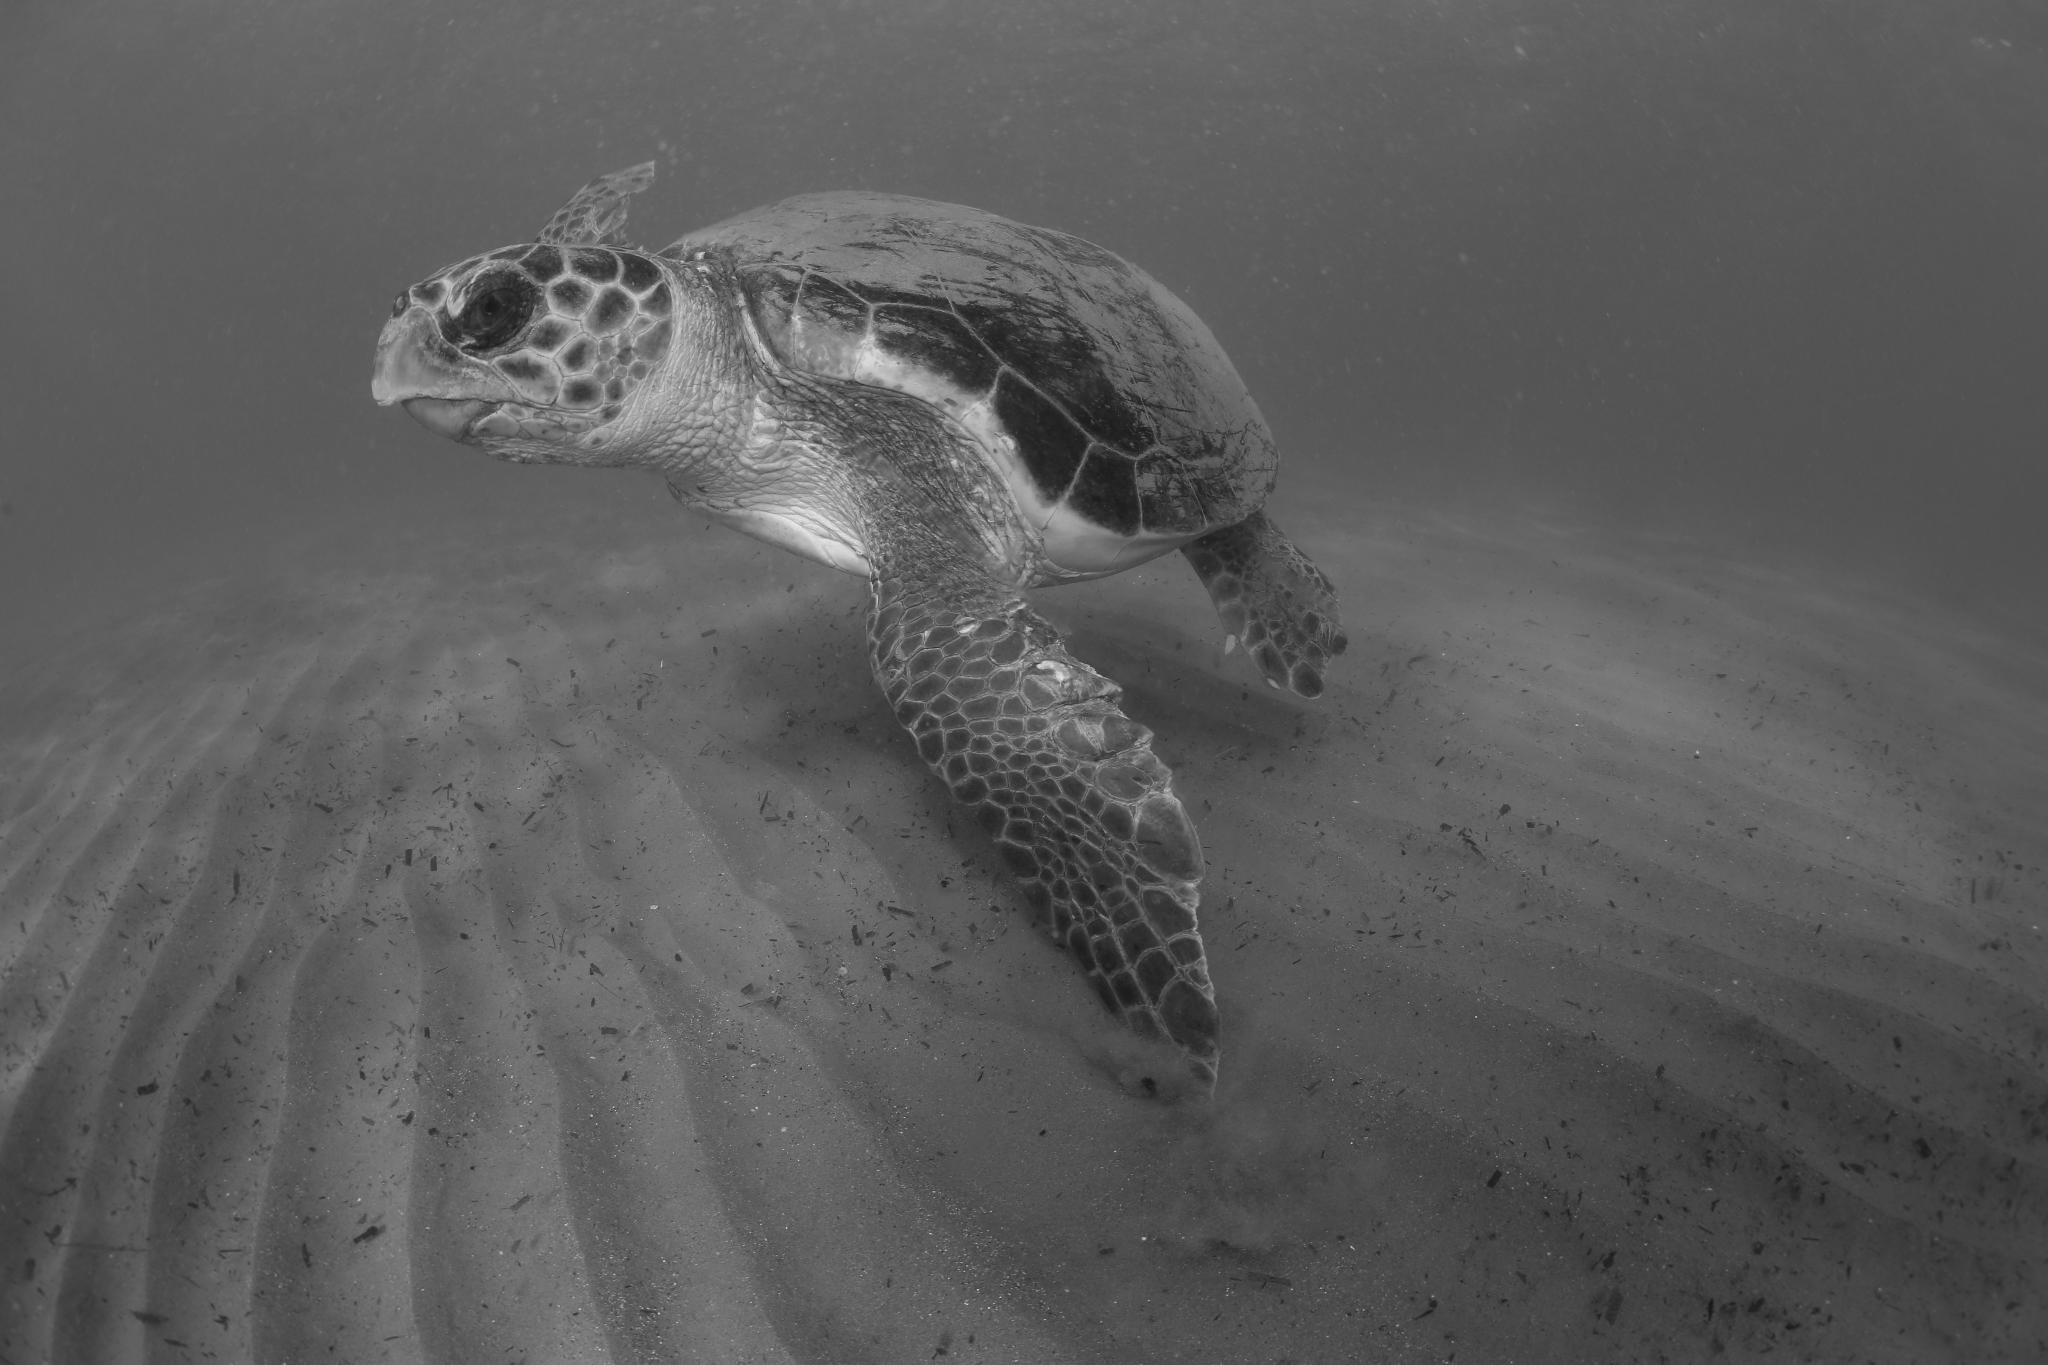Head: (373, 242, 733, 474)
